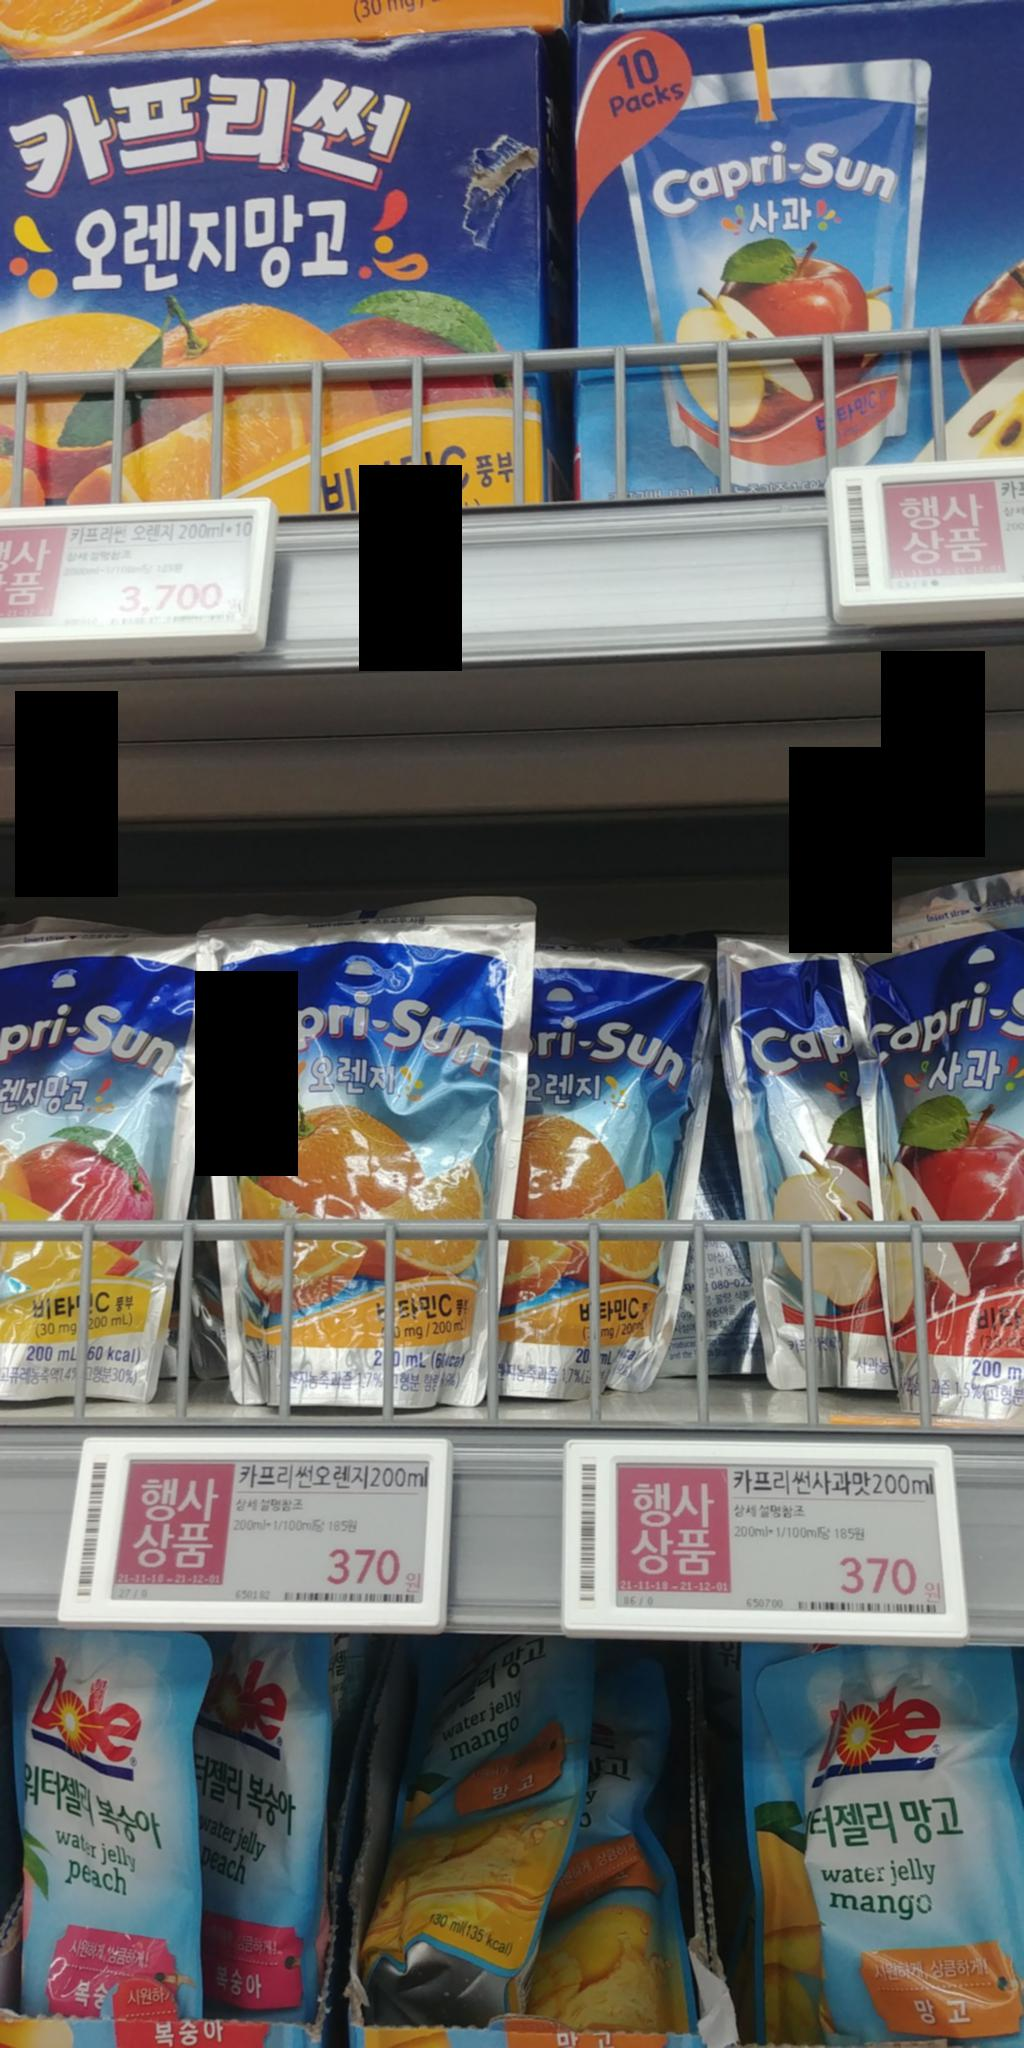cafrisun: (191, 904, 508, 1400), (496, 935, 707, 1417)
